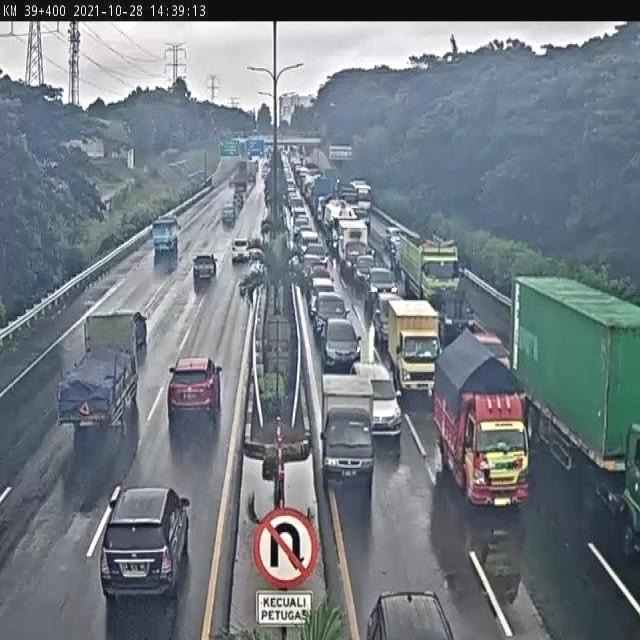Car: (98, 485, 189, 600), (163, 353, 223, 438), (322, 406, 376, 491), (365, 590, 458, 639), (368, 362, 403, 440), (319, 317, 362, 374), (372, 291, 402, 341), (313, 292, 351, 328), (367, 266, 396, 304), (354, 254, 376, 289), (192, 253, 218, 281), (231, 238, 252, 264), (221, 202, 236, 225)
Truck: (505, 268, 638, 558), (420, 328, 539, 508), (57, 309, 149, 443), (388, 300, 440, 397), (403, 233, 462, 300), (152, 216, 180, 260), (340, 221, 369, 257)
